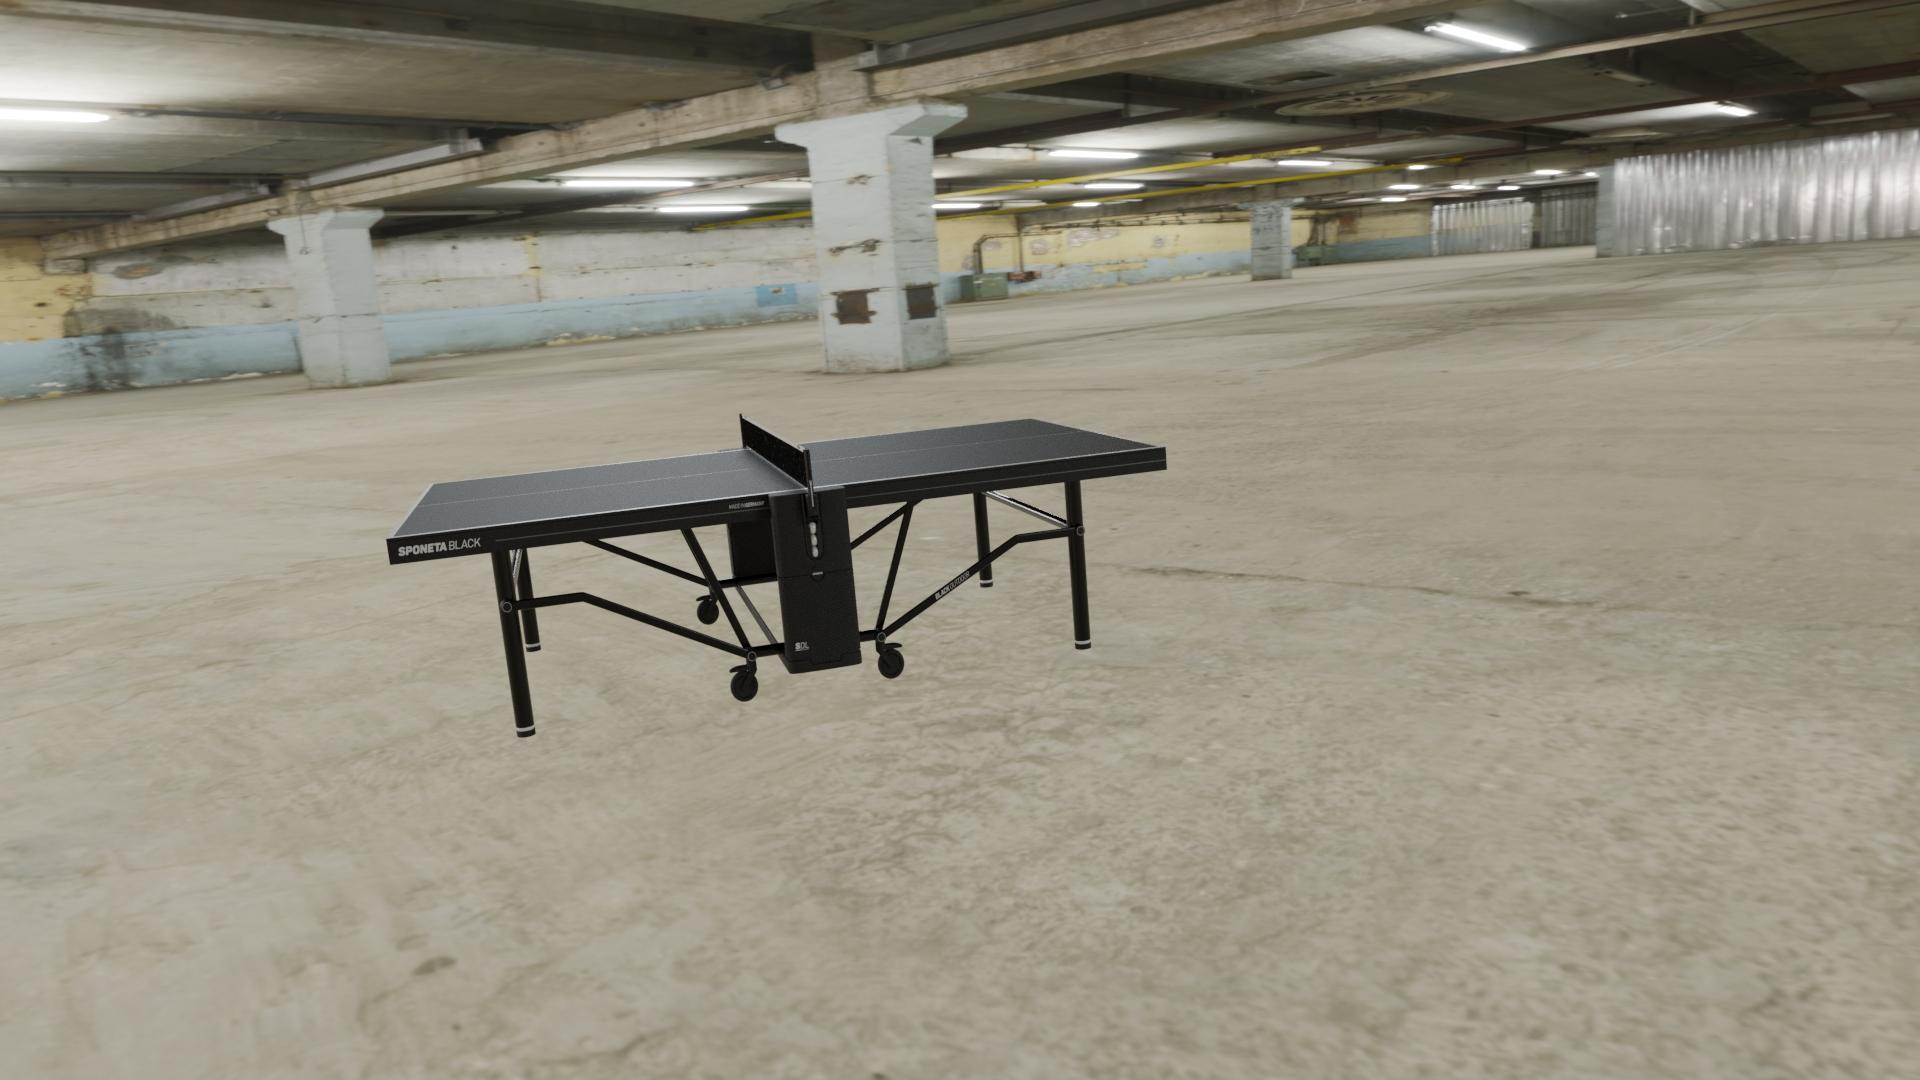table: (393, 418, 1159, 537)
